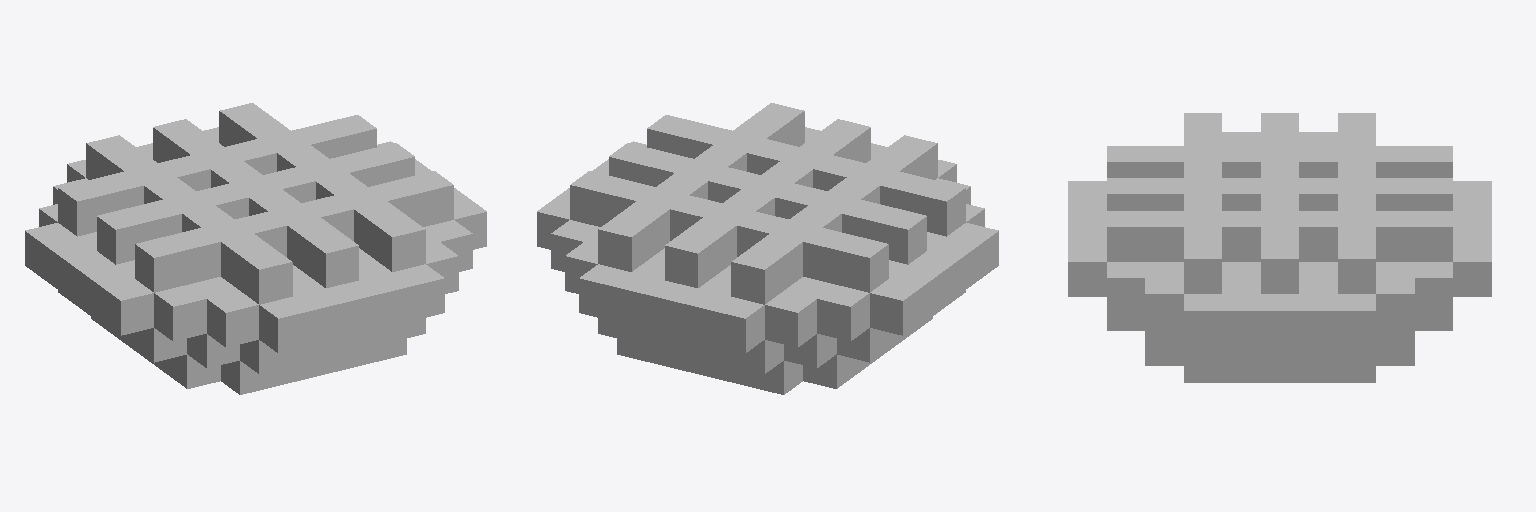
The model's file is Pie.obj.
3 renders of one model, left to right at view 1: azimuth 30°, elevation 25°; view 2: azimuth 150°, elevation 25°; view 3: azimuth 270°, elevation 25°, orthographic.
Bounding box in the file's own units: 11 × 4 × 11.